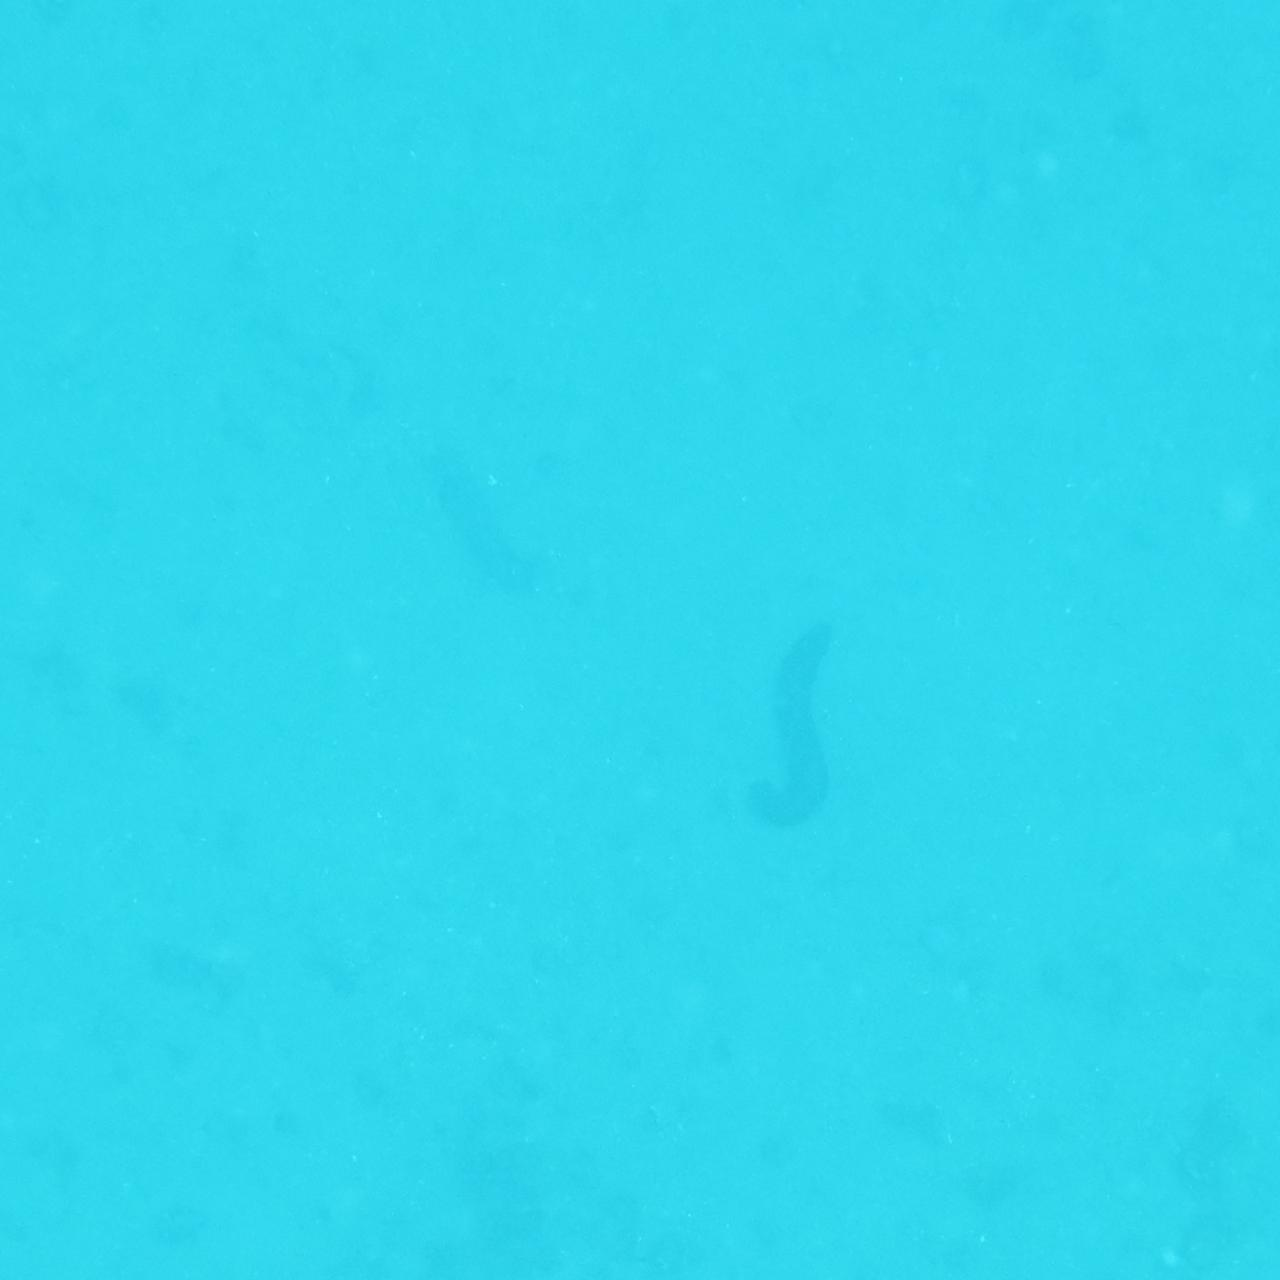Holothuria tubulosa: (421, 464, 576, 621), (726, 632, 838, 844)
